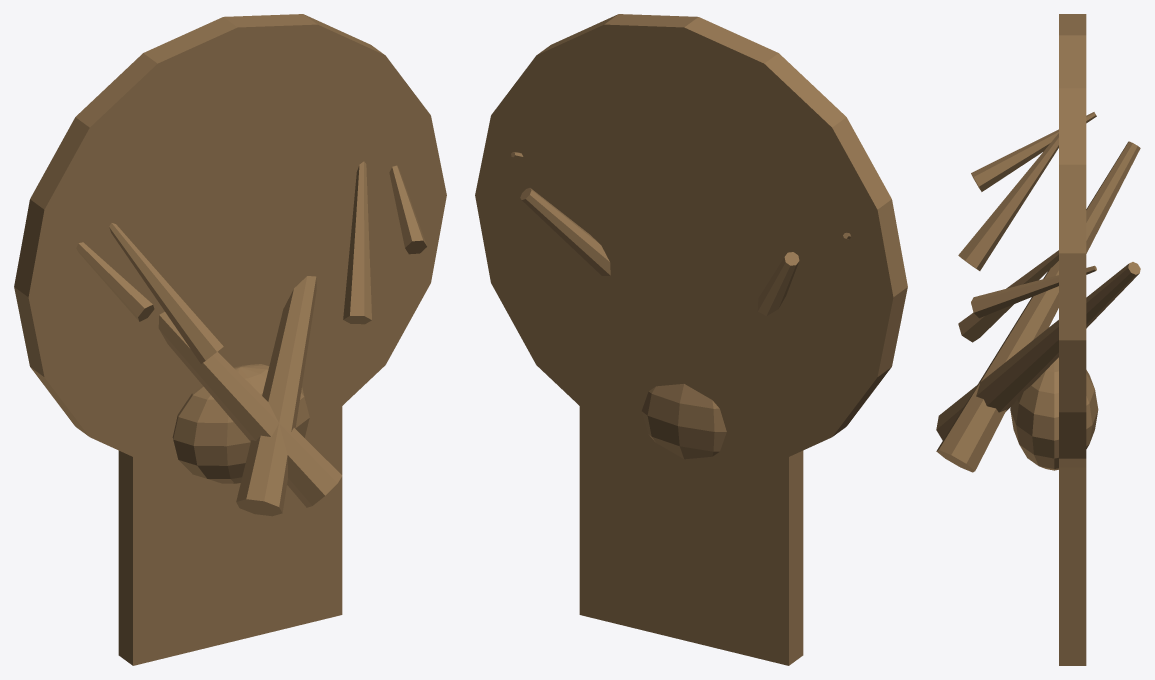
File: antlers_mounted.glb
3 views of the same model, side by side, from view 1: azimuth 30°, elevation 25°; view 2: azimuth 150°, elevation 25°; view 3: azimuth 270°, elevation 25° (orthographic). The views are drawn at different scales.
Visible parts, largest first — view 1: antlers_mounted; view 2: antlers_mounted; view 3: antlers_mounted.
Part boxes in pixels (x1,y1,x2,y2): antlers_mounted: (14, 14, 446, 665); antlers_mounted: (475, 14, 907, 665); antlers_mounted: (936, 14, 1140, 665).
Size of the model in its own units: 0.5 by 0.7 by 0.2228.
